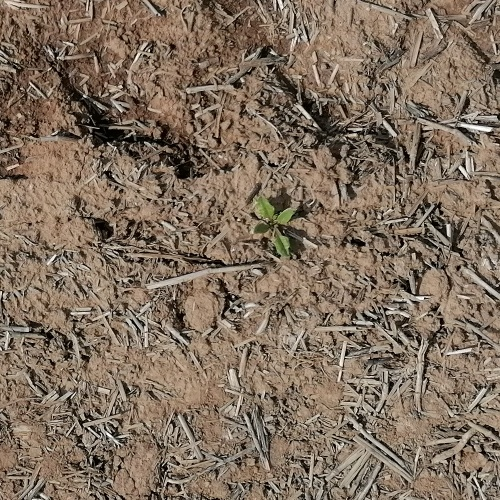beet: (253, 196, 296, 259)
